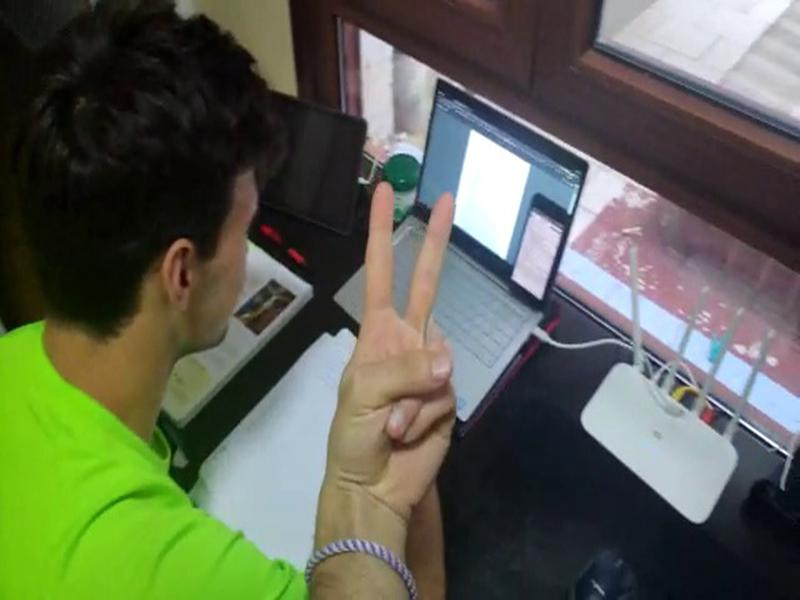Peace: (314, 174, 489, 514)
